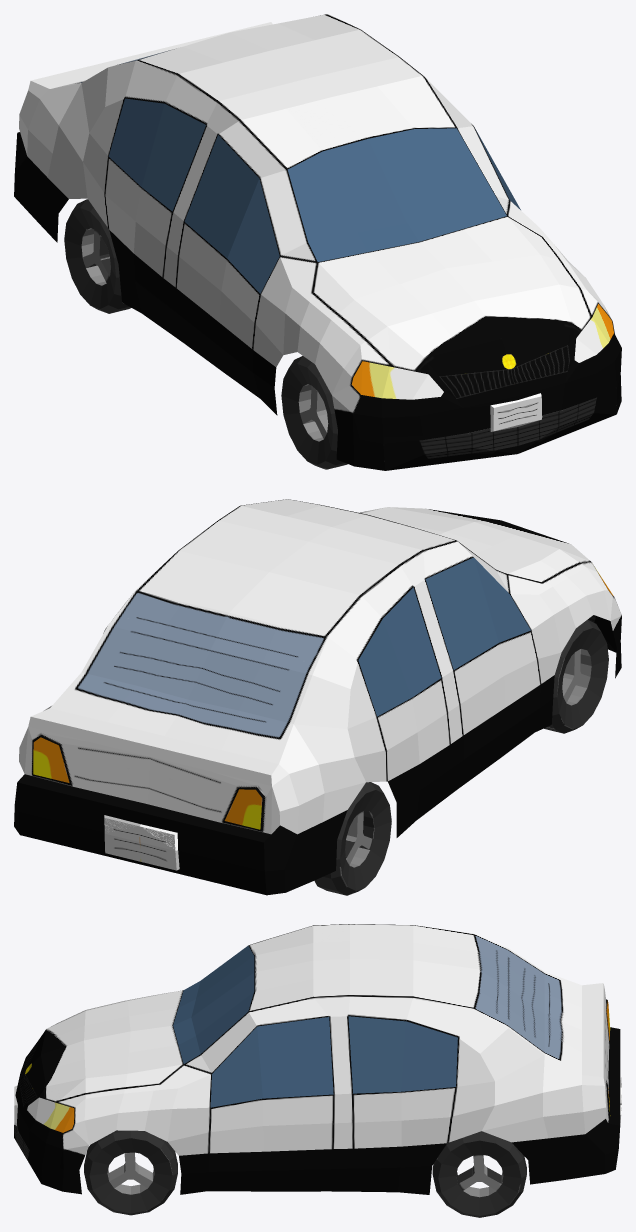
File: PatrolCar.fbx
3 renders of one model, top to bottom at view 1: azimuth 30°, elevation 25°; view 2: azimuth 150°, elevation 25°; view 3: azimuth 270°, elevation 25°, orthographic. The views are drawn at different scales.
Parts seen in each view (by area): view 1: body, Tire; view 2: body, Tire; view 3: body, Tire.
Boxes of the visible parts, x1,y1,x2,y2 form: body: [14, 14, 621, 470]; Tire: [64, 199, 347, 469]; body: [14, 499, 621, 895]; Tire: [314, 620, 608, 895]; body: [14, 924, 621, 1194]; Tire: [84, 1130, 526, 1217].
Size of the model in its own units: 106 by 91.1 by 241.
